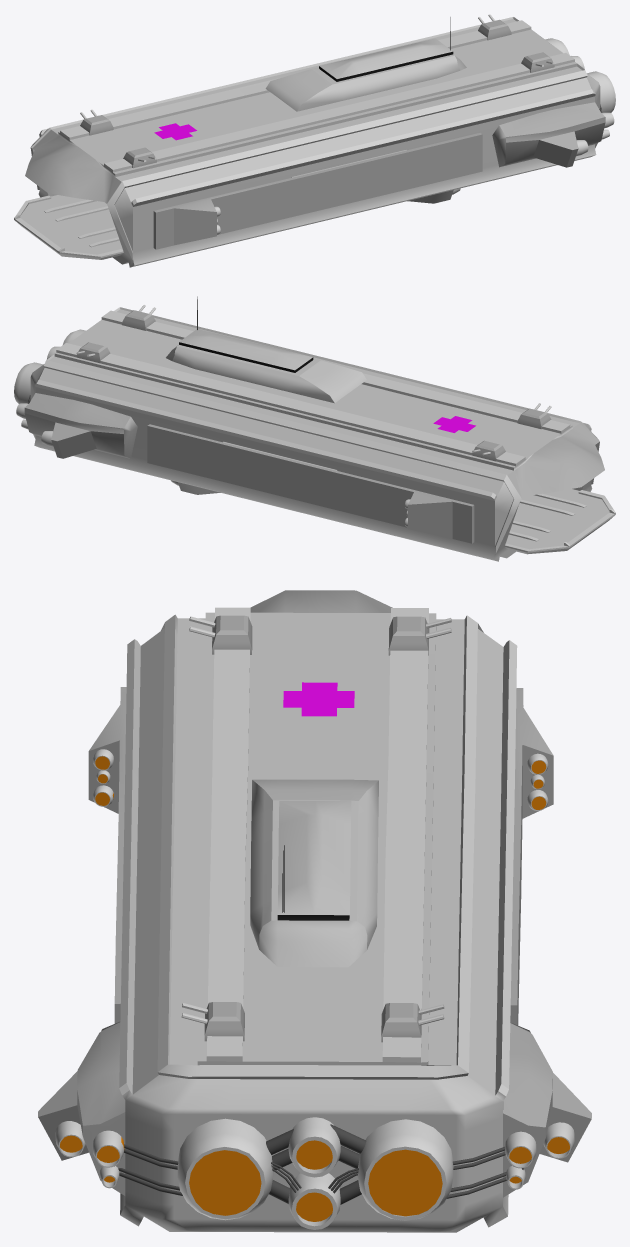
Rendered from Transport_Ship_Enemy.fbx.
3 renders of one model, top to bottom at view 1: azimuth 30°, elevation 25°; view 2: azimuth 150°, elevation 25°; view 3: azimuth 270°, elevation 25°, orthographic. The views are drawn at different scales.
Parts seen in each view (by area): view 1: Transport_Ship; view 2: Transport_Ship; view 3: Transport_Ship.
Boxes of the visible parts, left/top/right/bottom form: Transport_Ship: left=14, top=14, right=615, bottom=267; Transport_Ship: left=14, top=296, right=615, bottom=561; Transport_Ship: left=38, top=590, right=591, bottom=1232.
Bounding box in the file's own units: 128 × 35.83 × 56.
